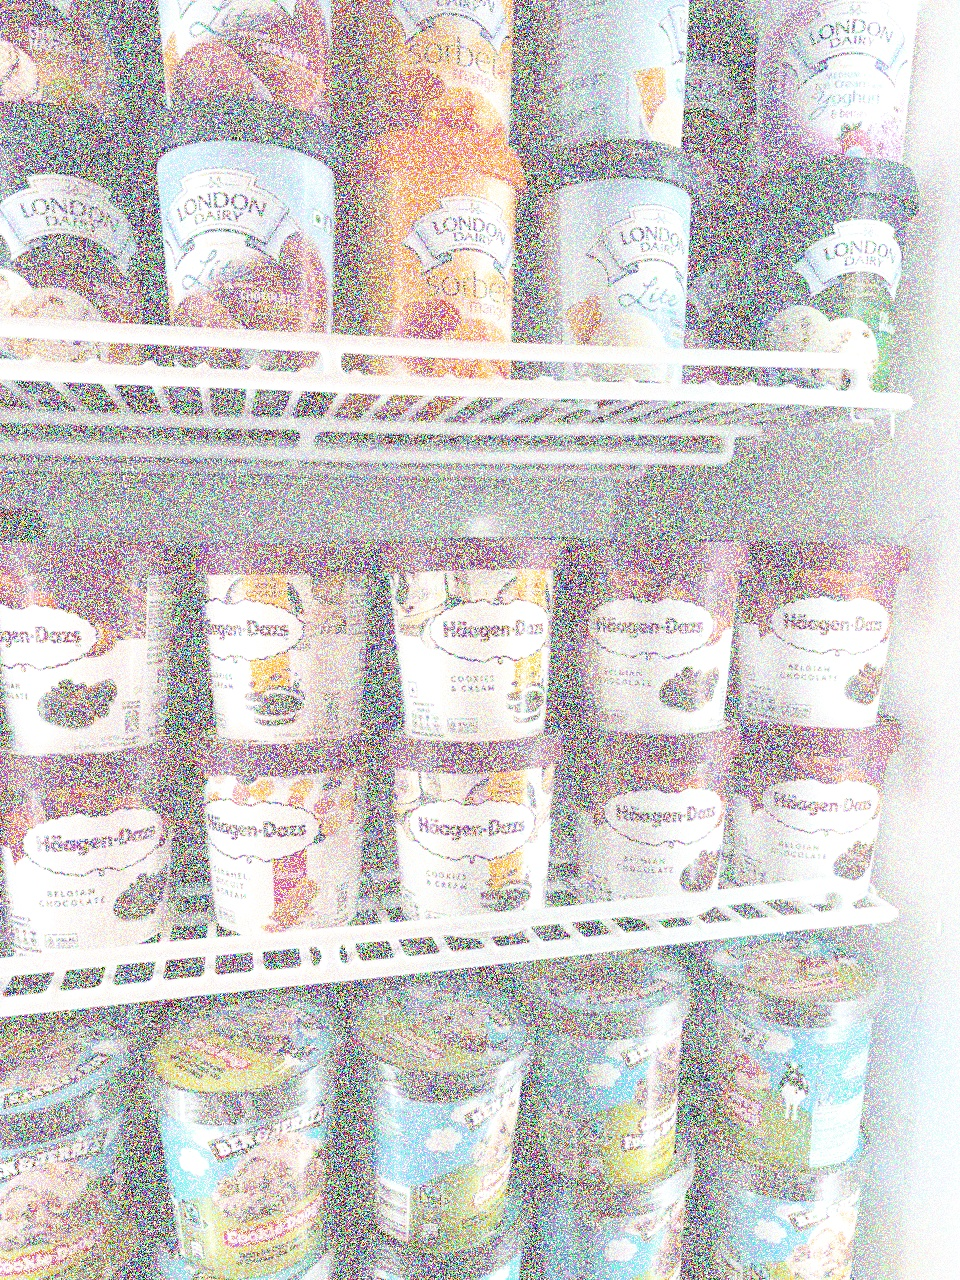Haagen-Dazs IceCream Tub: (174, 535, 380, 739), (175, 735, 369, 945), (375, 533, 566, 739), (554, 531, 739, 740), (551, 731, 737, 934), (0, 743, 173, 955), (0, 535, 174, 745), (732, 527, 912, 726), (374, 739, 556, 928), (725, 719, 892, 906)
